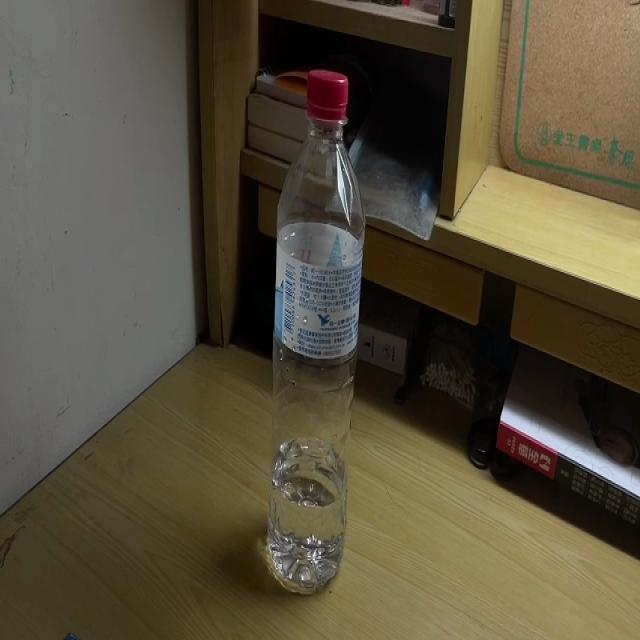Water: (266, 68, 365, 600)
